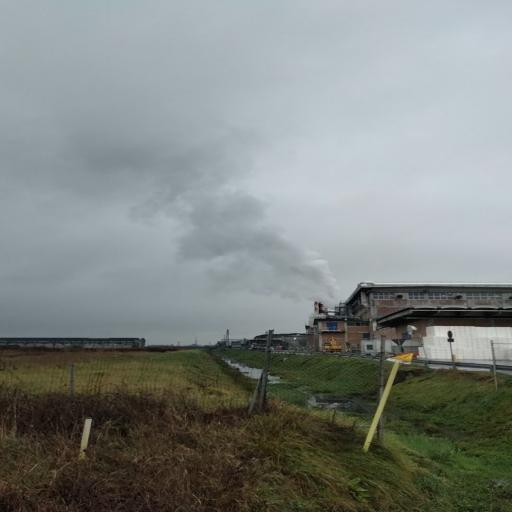leakage: (46, 103, 358, 320)
